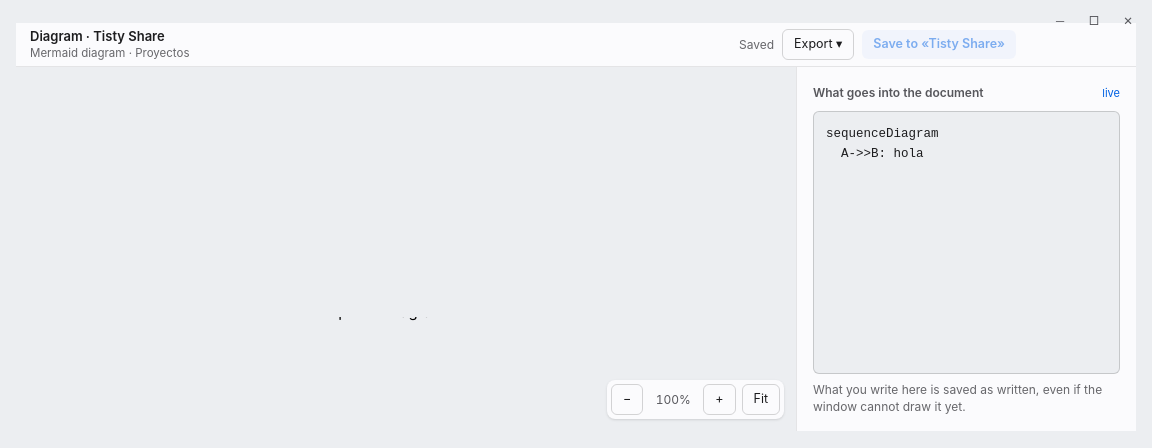
the diagram window › zooms with its buttons and fits the drawing back
Expected: the icon "sequenceDiagram" is shown, 316,317 -> 516,417
Click the button named "Zoom in": (719, 400) 703,384 -> 736,415
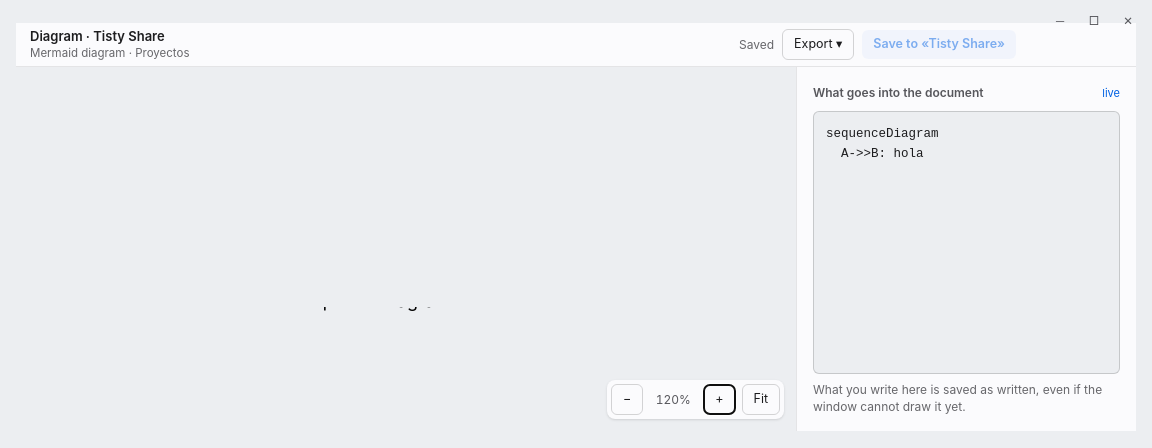
Now the text "100%" reads "120%", box 656,392 -> 691,407
Click the button named "Zoom out": (627, 400) 611,384 -> 643,415
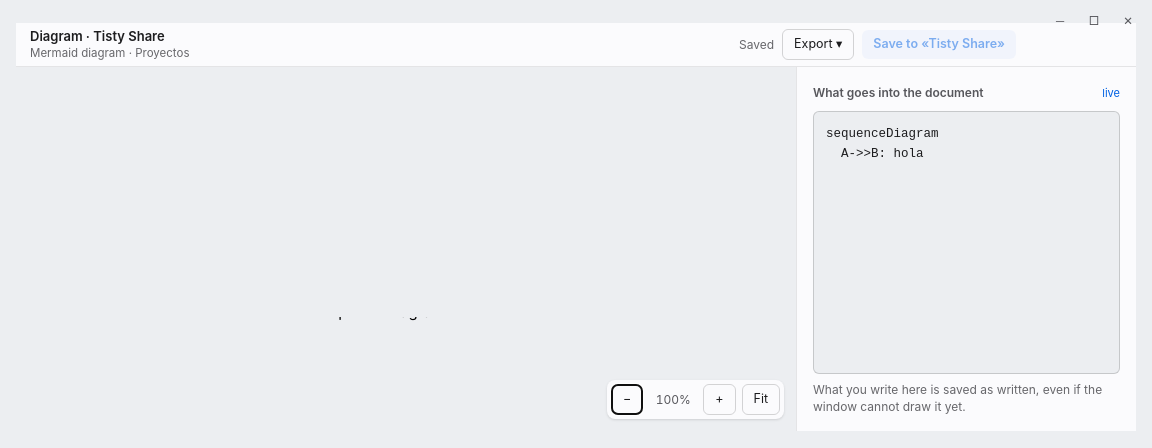
Click the button named "Zoom out": (627, 400) 611,384 -> 643,415
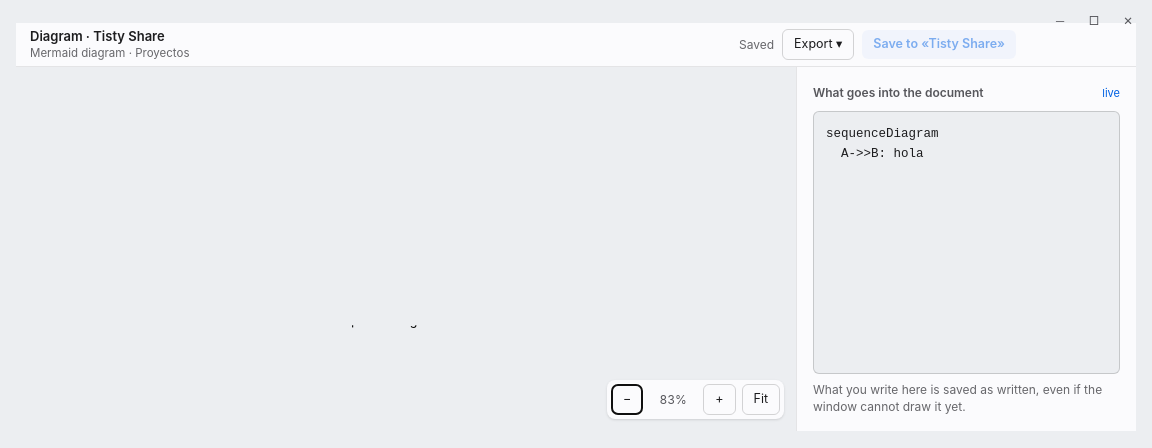
Now the text "100%" reads "83%", box 660,392 -> 687,407
Click the button "Fit": (761, 400) 742,384 -> 780,415
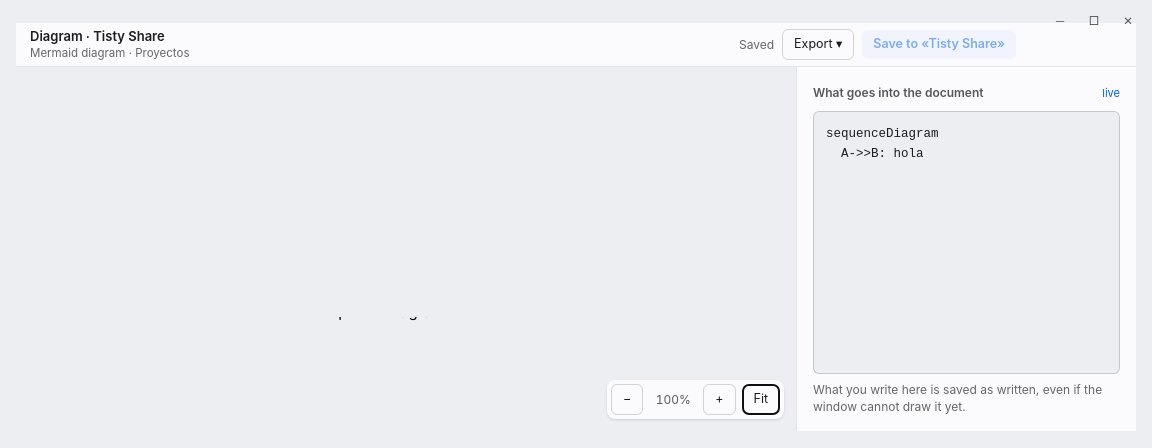
Now the text "100%" is shown, box 656,392 -> 691,407
